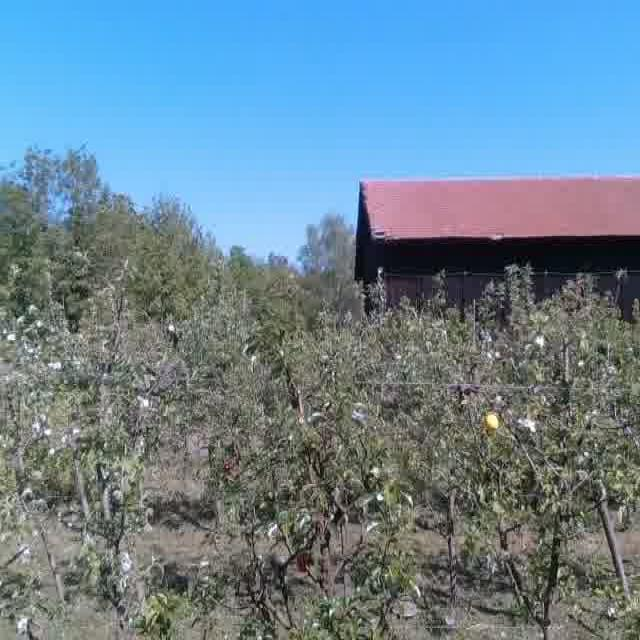red: (295, 552, 314, 574), (221, 460, 234, 474)
yellow: (484, 410, 501, 434)
